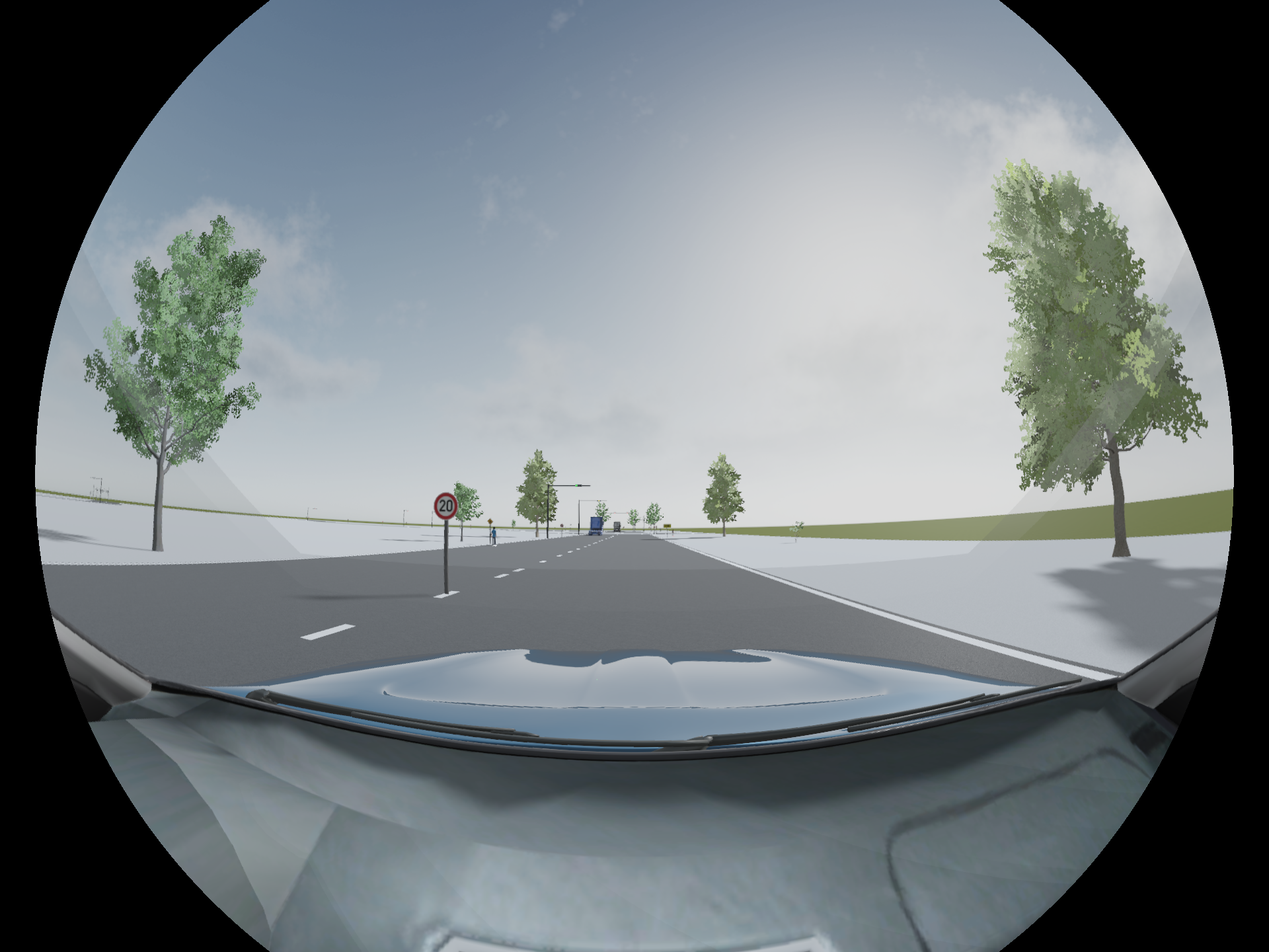Green Light: (575, 483, 583, 488)
Speed Limit 20: (434, 493, 457, 518)
